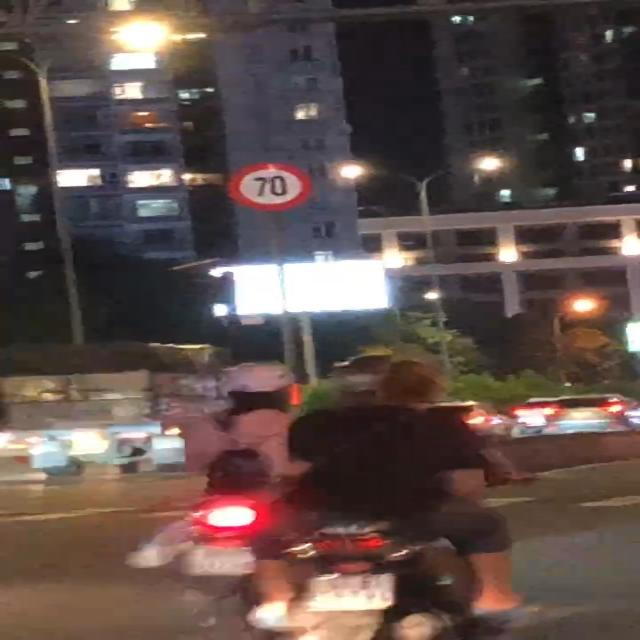Bien bao toc do toi da cho phep: (220, 160, 318, 213)
